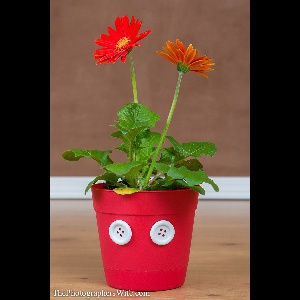flowerpot: (88, 176, 201, 292)
